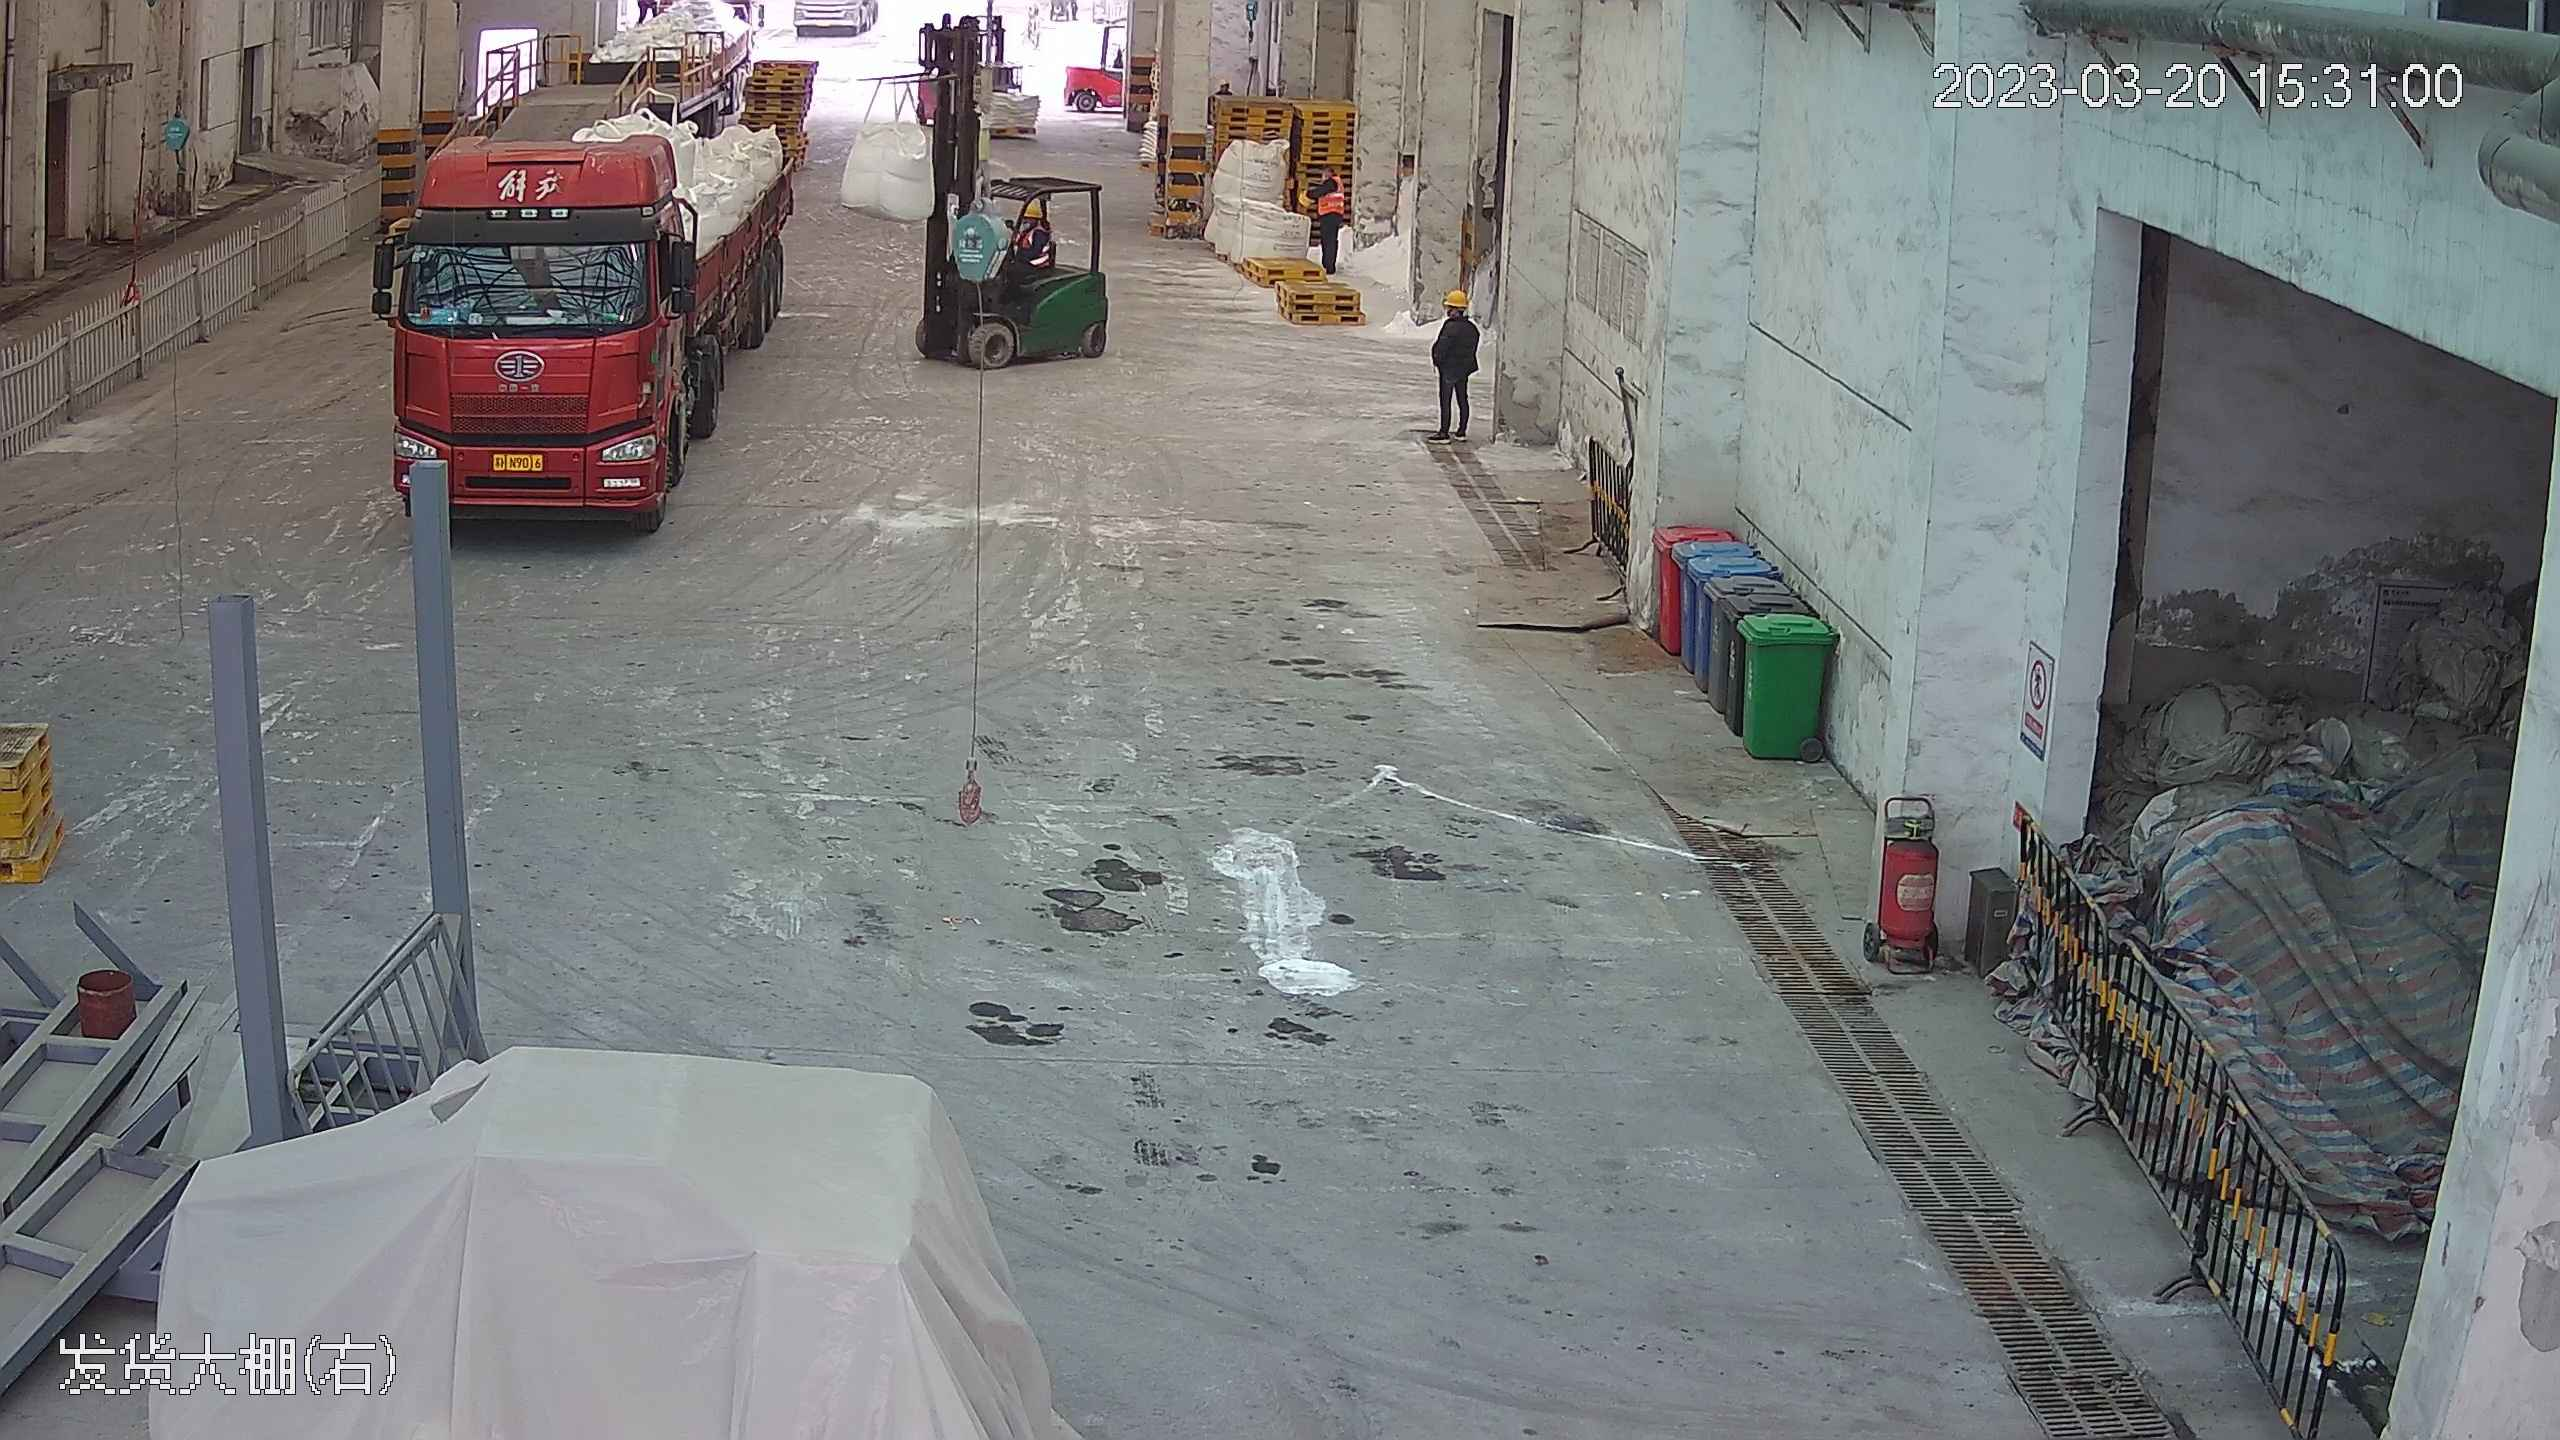head: (1434, 286, 1478, 338), (1010, 197, 1051, 244)
helmet: (1441, 286, 1466, 308)
people: (1426, 283, 1484, 441), (1307, 167, 1349, 282)
truck: (371, 36, 803, 526)
